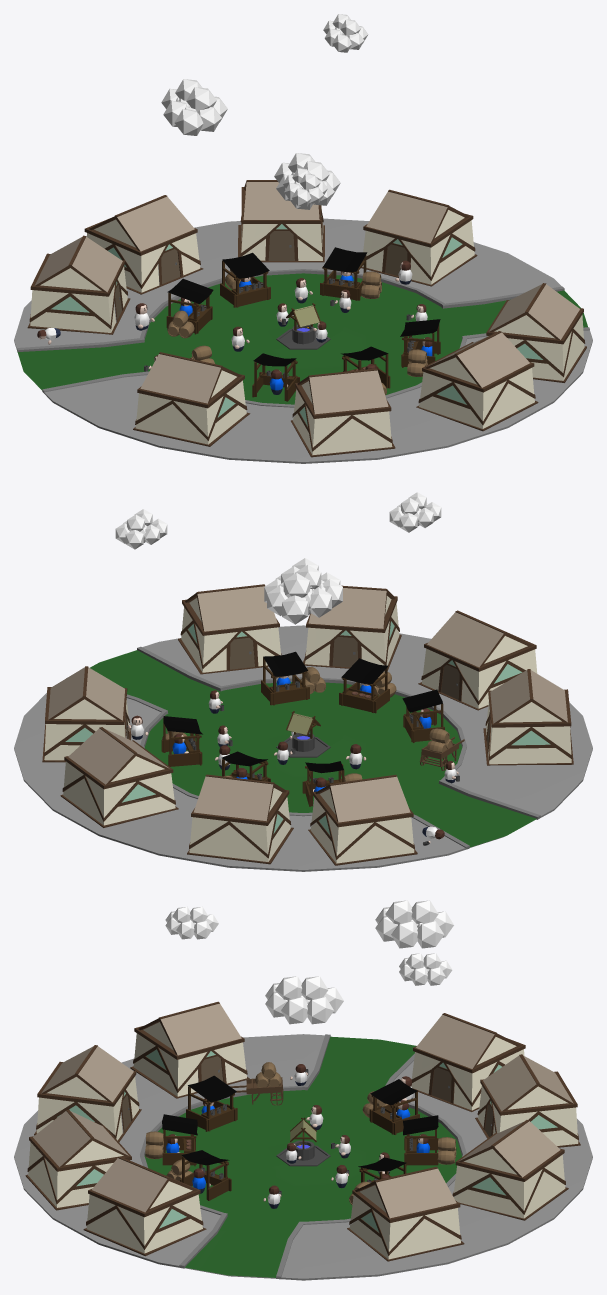
The model's file is aprende.glb.
3 renders of one model, top to bottom at view 1: azimuth 30°, elevation 25°; view 2: azimuth 150°, elevation 25°; view 3: azimuth 270°, elevation 25°, orthographic.
Parts seen in each view (by area): view 1: Object_31, Object_6, Object_18, Object_8, Object_7, Object_16, Object_28, Object_11, Object_30, Object_17, Object_9, Object_4 (+3 smaller); view 2: Object_18, Object_31, Object_6, Object_8, Object_7, Object_16, Object_28, Object_11, Object_30, Object_9, Object_4, Object_17 (+5 smaller); view 3: Object_18, Object_6, Object_31, Object_8, Object_7, Object_16, Object_28, Object_11, Object_30, Object_17, Object_4, Object_9 (+5 smaller).
Boxes of the visible parts, bbox=[...] form: Object_31: bbox=[14, 218, 592, 463]; Object_6: bbox=[30, 205, 584, 455]; Object_18: bbox=[17, 273, 587, 404]; Object_8: bbox=[34, 182, 579, 414]; Object_7: bbox=[27, 180, 586, 457]; Object_16: bbox=[161, 14, 368, 209]; Object_28: bbox=[166, 255, 440, 401]; Object_11: bbox=[167, 247, 440, 366]; Object_30: bbox=[17, 269, 589, 406]; Object_17: bbox=[167, 269, 427, 395]; Object_9: bbox=[115, 231, 407, 319]; Object_4: bbox=[51, 216, 542, 426]; Object_18: bbox=[90, 650, 536, 847]; Object_31: bbox=[14, 625, 592, 871]; Object_6: bbox=[44, 596, 571, 863]; Object_8: bbox=[48, 586, 567, 822]; Object_7: bbox=[42, 584, 573, 865]; Object_16: bbox=[115, 492, 441, 624]; Object_28: bbox=[161, 657, 444, 806]; Object_11: bbox=[163, 651, 442, 773]; Object_30: bbox=[126, 646, 540, 849]; Object_9: bbox=[125, 637, 490, 748]; Object_4: bbox=[65, 621, 550, 835]; Object_17: bbox=[162, 667, 452, 781]; Object_18: bbox=[144, 1036, 462, 1277]; Object_6: bbox=[28, 1022, 578, 1259]; Object_31: bbox=[14, 1034, 592, 1280]; Object_8: bbox=[33, 1003, 573, 1218]; Object_7: bbox=[25, 1001, 580, 1261]; Object_16: bbox=[165, 900, 453, 1024]; Object_28: bbox=[162, 1086, 438, 1200]; Object_11: bbox=[162, 1075, 438, 1171]; Object_30: bbox=[140, 1034, 466, 1276]; Object_17: bbox=[145, 1062, 456, 1204]; Object_4: bbox=[57, 1049, 557, 1232]; Object_9: bbox=[122, 1056, 492, 1137].
Bounding box in the file's own units: 27.5 × 14.72 × 27.5.
